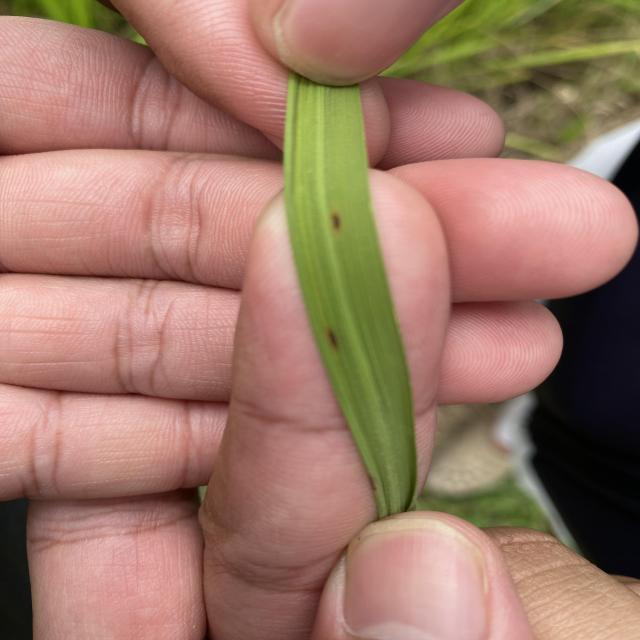Dom nau: (326, 325, 340, 352), (328, 207, 342, 233)
